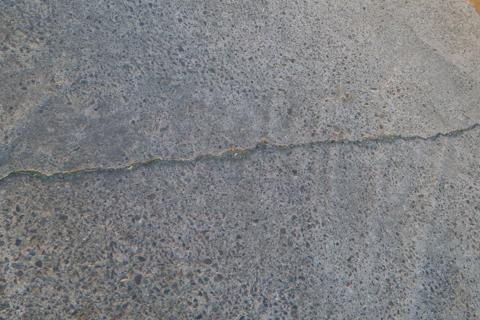crack: (0, 117, 480, 182)
